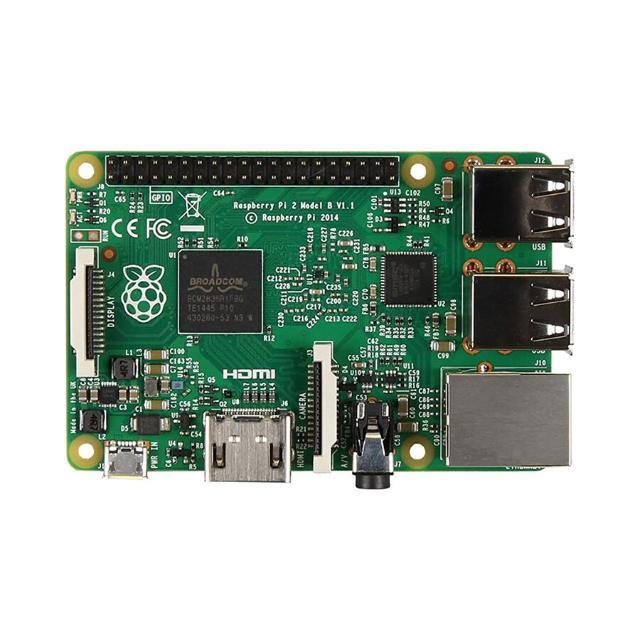Raspberry-Pi-2-B: (67, 153, 572, 488)
